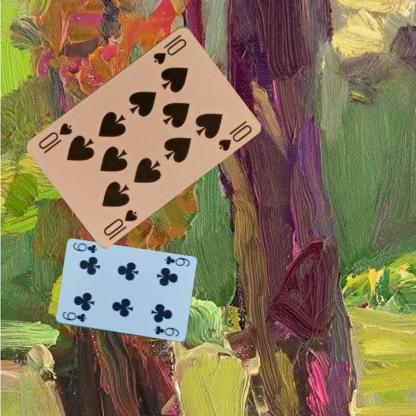10s: (150, 31, 188, 66), (101, 206, 139, 237)
6c: (60, 309, 87, 324), (162, 254, 190, 268)
